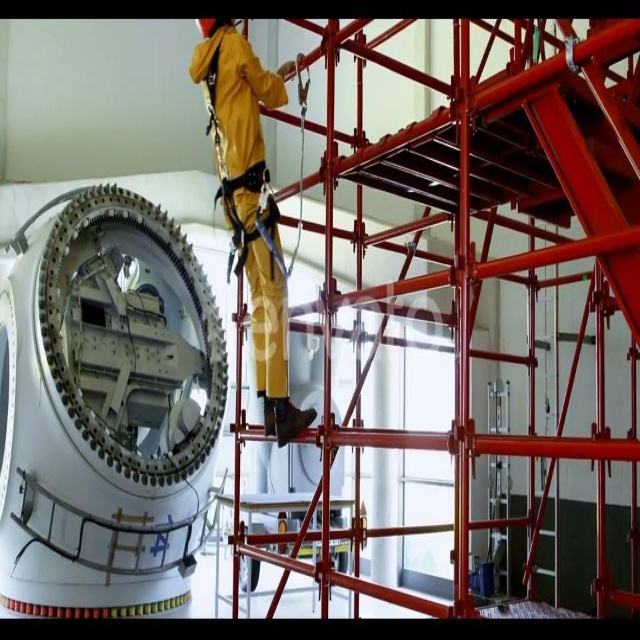Arnes_seguridad: (198, 40, 284, 278)
